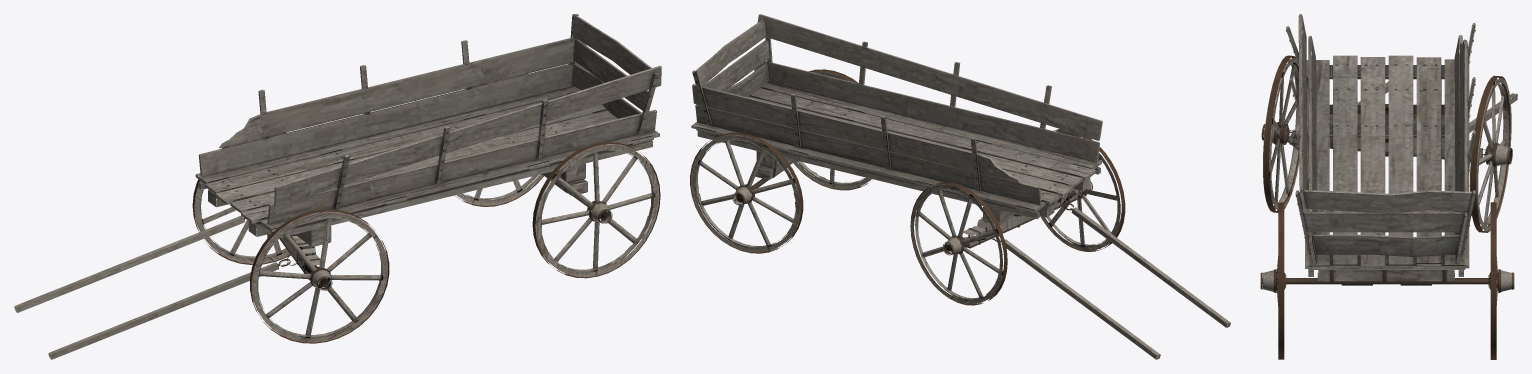
Rendered from carro.glb.
3 renders of one model, left to right at view 1: azimuth 30°, elevation 25°; view 2: azimuth 150°, elevation 25°; view 3: azimuth 270°, elevation 25°, orthographic. The views are drawn at different scales.
Visible parts, largest first — view 1: CartBody_CartBase_0, wheel_fl_CartDetails_0, wheel_rl_CartDetails_0, CartSteer_CartBase_0, wheel_fr_CartDetails_0, wheel_rr_CartDetails_0; view 2: CartBody_CartBase_0, wheel_rr_CartDetails_0, wheel_fr_CartDetails_0, CartSteer_CartBase_0, wheel_fl_CartDetails_0, wheel_rl_CartDetails_0; view 3: CartBody_CartBase_0, wheel_fr_CartDetails_0, wheel_fl_CartDetails_0, wheel_rl_CartDetails_0, wheel_rr_CartDetails_0, CartBody_CartDetails_0, CartSteer_CartBase_0.
Boxes of the visible parts, <box> form: CartBody_CartBase_0: <box>195,14,661,246</box>; wheel_fl_CartDetails_0: <box>250,209,389,343</box>; wheel_rl_CartDetails_0: <box>532,142,660,278</box>; CartSteer_CartBase_0: <box>14,215,320,359</box>; wheel_fr_CartDetails_0: <box>192,132,290,264</box>; wheel_rr_CartDetails_0: <box>454,73,543,206</box>; CartBody_CartBase_0: <box>691,14,1102,225</box>; wheel_rr_CartDetails_0: <box>690,132,803,253</box>; wheel_fr_CartDetails_0: <box>910,182,1007,305</box>; CartSteer_CartBase_0: <box>962,189,1230,359</box>; wheel_fl_CartDetails_0: <box>1040,129,1125,251</box>; wheel_rl_CartDetails_0: <box>793,69,872,190</box>; CartBody_CartBase_0: <box>1286,14,1475,281</box>; wheel_fr_CartDetails_0: <box>1469,75,1512,232</box>; wheel_fl_CartDetails_0: <box>1261,55,1299,212</box>; wheel_rl_CartDetails_0: <box>1260,202,1286,359</box>; wheel_rr_CartDetails_0: <box>1488,202,1514,359</box>; CartBody_CartDetails_0: <box>1284,30,1489,285</box>; CartSteer_CartBase_0: <box>1289,81,1517,159</box>.
Bounding box in the file's own units: 5.19 × 1.6 × 1.86.
Materials: 2 (2 with a texture image).
